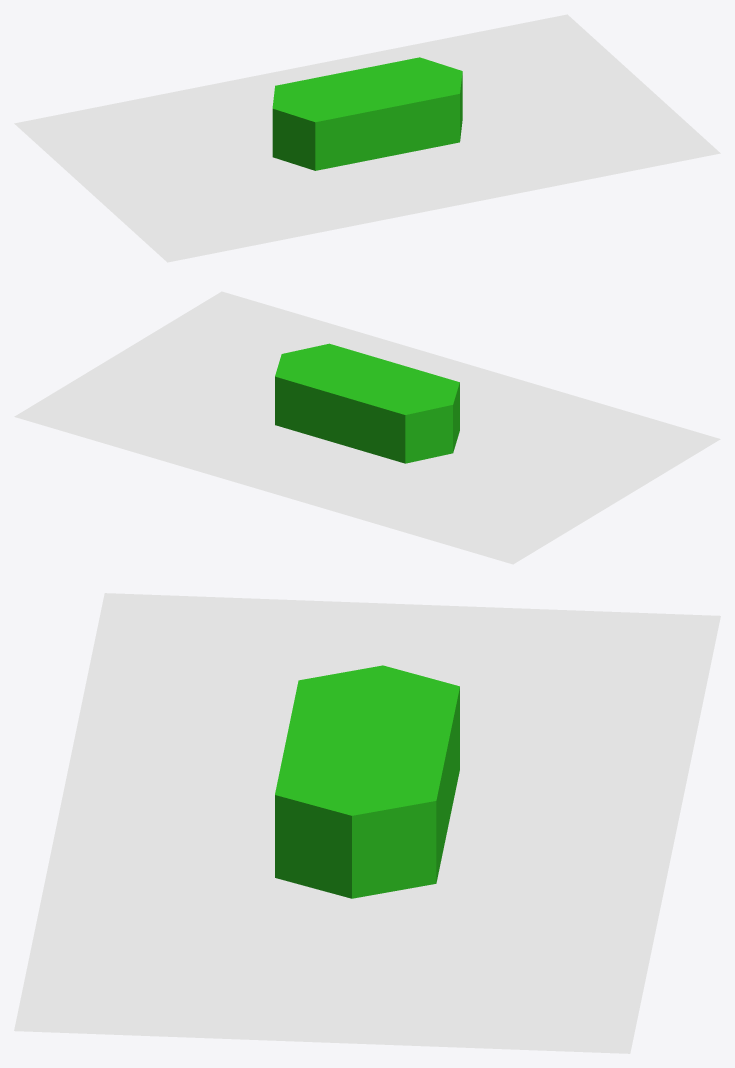
Rendered from NormalContent.fbx.
3 renders of one model, top to bottom at view 1: azimuth 30°, elevation 25°; view 2: azimuth 150°, elevation 25°; view 3: azimuth 270°, elevation 25°, orthographic. The views are drawn at different scales.
Parts seen in each view (by area): view 1: Shadow, Model; view 2: Shadow, Model; view 3: Shadow, Model.
Part boxes in pixels (bbox=[...]): Shadow: bbox=[14, 14, 720, 262]; Model: bbox=[272, 57, 462, 170]; Shadow: bbox=[14, 291, 720, 564]; Model: bbox=[275, 343, 459, 463]; Shadow: bbox=[14, 593, 720, 1053]; Model: bbox=[275, 665, 459, 898].
Size of the model in its own units: 3.59 by 0.308 by 2.33.
